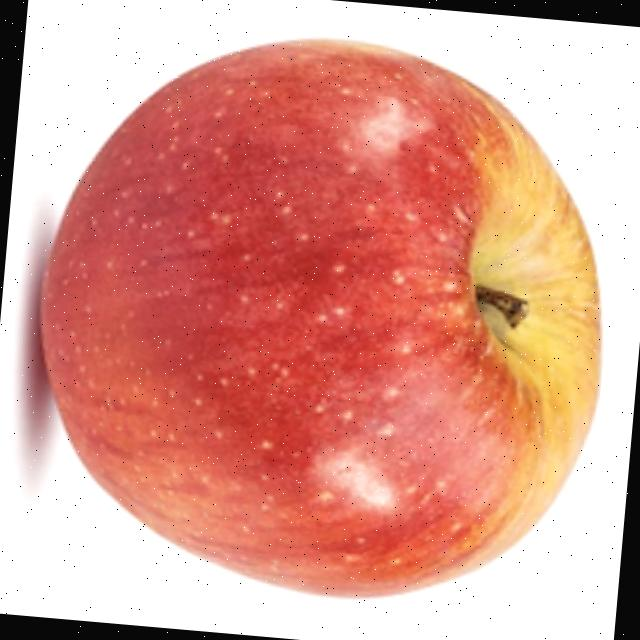Ripe: (7, 6, 634, 622)
